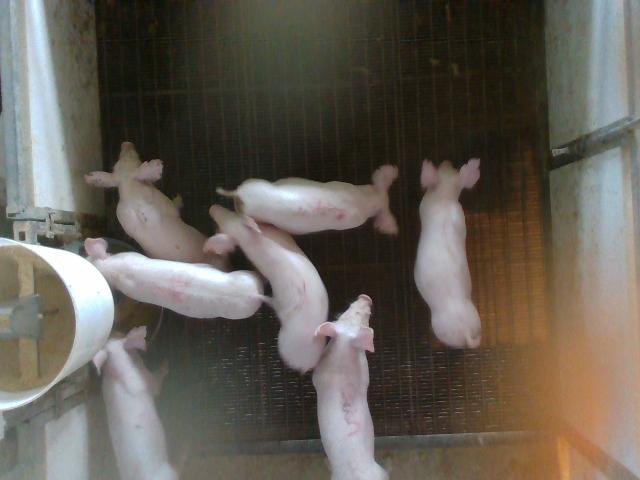pig-3: (312, 295, 388, 479)
pig-4: (85, 238, 269, 318)
pig-5: (216, 165, 398, 234)
